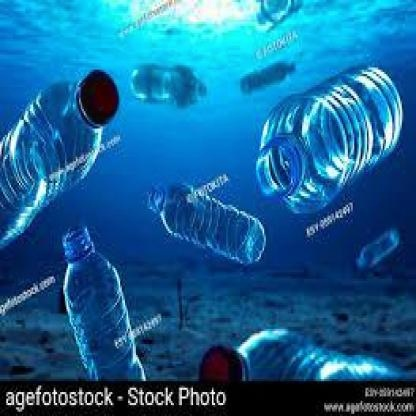pbottle: (250, 59, 403, 211), (1, 70, 124, 246), (51, 220, 147, 383), (191, 322, 416, 381), (142, 174, 277, 266), (125, 46, 210, 113), (349, 222, 413, 288), (236, 54, 299, 94)
